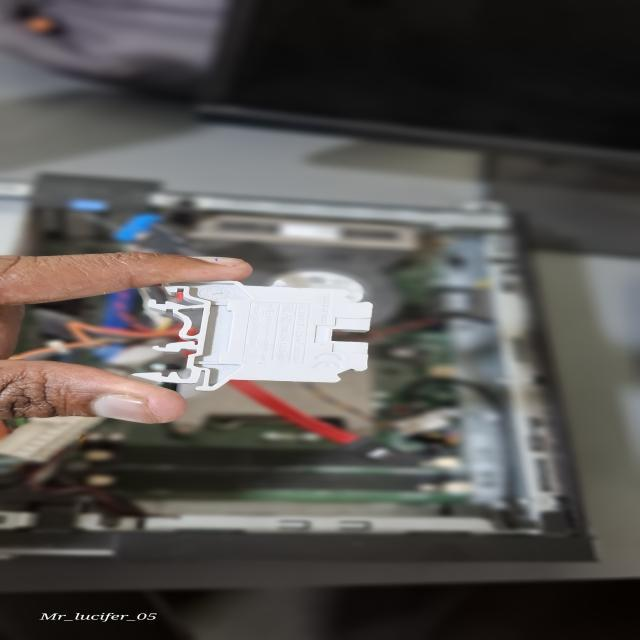Inverted: (131, 278, 374, 398)
